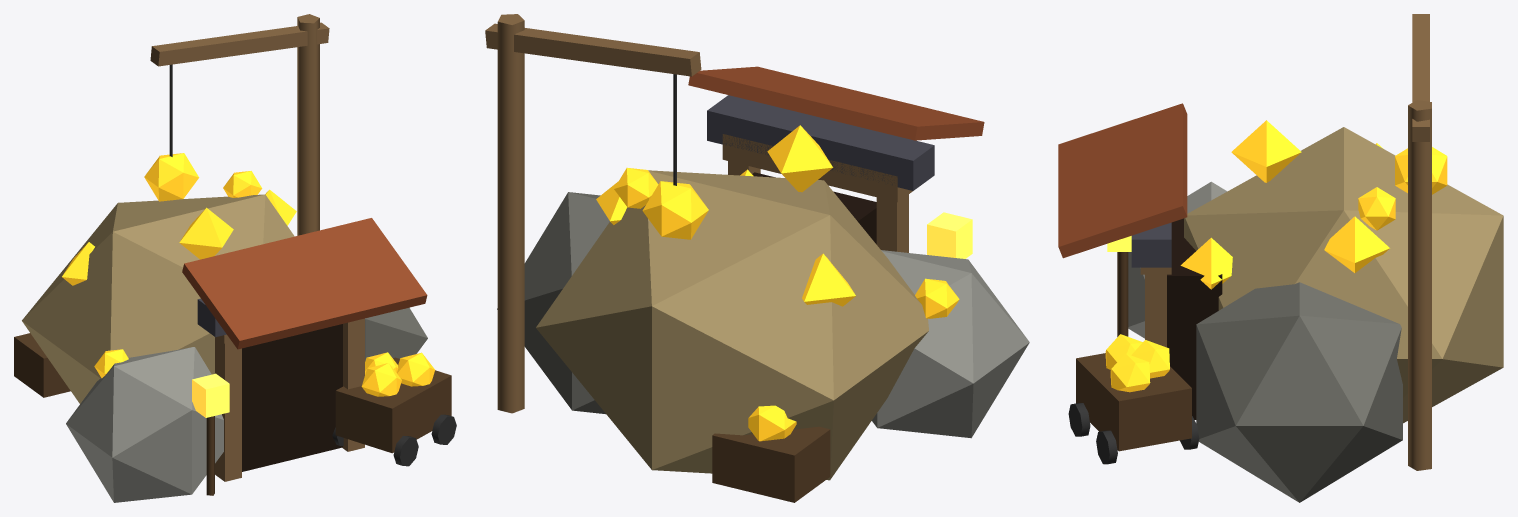
Rendered from level3.glb.
3 renders of one model, left to right at view 1: azimuth 30°, elevation 25°; view 2: azimuth 150°, elevation 25°; view 3: azimuth 270°, elevation 25°, orthographic. The views are drawn at different scales.
Bounding box in the file's own units: 2.3 × 2.25 × 2.26.
